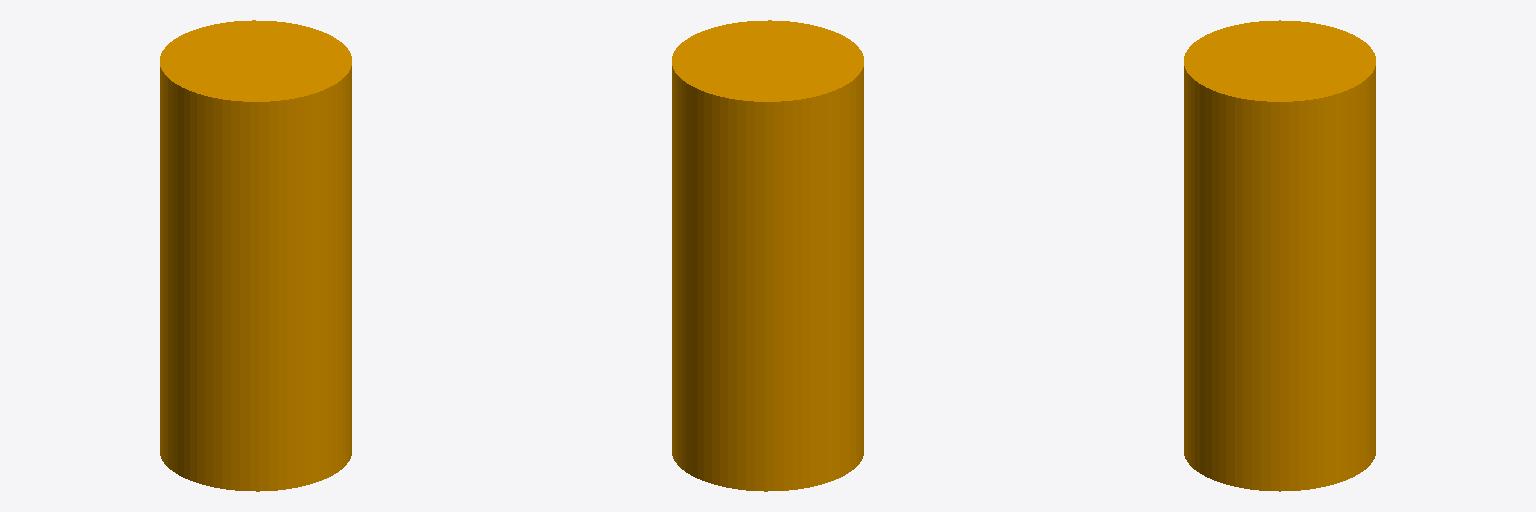
robot.urdf — tumbler:
<?xml version="1.0"?>
<!-- tumbler.urdf 의 6자유도 판.
     캡을 body 에 cap_spin(z회전) + cap_lift(z이동) + 여분 4개(cap_tx/ty 수평,
     cap_rx/ry 기울임) 사슬로 연결한다. 잠긴 동안 여분 4개는 screw_coupling 이
     강성 위치 드라이브로 0 에 고정하므로 기존 2자유도 판과 같은 거동이고,
     해제(180도) 순간 드라이브를 꺼서 캡이 완전 자유 강체처럼 움직인다
     (기울고, 미끄러지고, 계속 돈다). 2자유도 판은 해제 후에도 z 회전+상승만
     가능해서 손이 캡을 기울이거나 옆으로 빼낼 수 없었다.
     cap_spin 상한은 나사끝(180도)+2도 여유 (tumbler.urdf 의 주석 참조).
     해제 시 spin 한계 확장은 screw_coupling.release_bound() 가 담당한다. -->
<!-- make_cyl_tumbler.py 생성: cap r=50.2/h=30.0mm, body R=50.0/H=223.0mm, 64각 -->
<robot name="tumbler">
  <link name="body">
    <visual>
      <geometry><mesh filename="meshes/tumbler_cyl_col_body.obj"/></geometry>
    </visual>
    <collision>
      <geometry><mesh filename="meshes/tumbler_cyl_col_body.obj"/></geometry>
    </collision>
    <inertial>
      <mass value="0.3"/>
      <origin xyz="0.020946 0.000643 0.134835"/>
      <inertia ixx="0.00167630" iyy="0.00206606" izz="0.00082941" ixy="0" ixz="0" iyz="0"/>
    </inertial>
  </link>

  <link name="cap_spinner">
    <inertial>
      <mass value="1e-4"/>
      <inertia ixx="1e-8" iyy="1e-8" izz="1e-8" ixy="0" ixz="0" iyz="0"/>
    </inertial>
  </link>
  <joint name="cap_spin" type="revolute">
    <parent link="body"/>
    <child link="cap_spinner"/>
    <origin xyz="0 0 0.225000"/>
    <axis xyz="0 0 1"/>
    <limit lower="-0.020000" upper="3.176499" effort="50.0" velocity="20.0"/>
    <dynamics damping="0.001" friction="0.0"/>
  </joint>

  <link name="cap_lifter">
    <inertial>
      <mass value="1e-4"/>
      <inertia ixx="1e-8" iyy="1e-8" izz="1e-8" ixy="0" ixz="0" iyz="0"/>
    </inertial>
  </link>
  <joint name="cap_lift" type="prismatic">
    <parent link="cap_spinner"/>
    <child link="cap_lifter"/>
    <origin xyz="0 0 0"/>
    <axis xyz="0 0 1"/>
    <limit lower="0.0" upper="0.13" effort="100.0" velocity="5.0"/>
    <mimic joint="cap_spin" multiplier="3.18309886e-03" offset="0.0"/>
  </joint>

  <!-- 여분 4자유도. 잠긴 동안 screw_coupling 이 강성 드라이브로 0 고정. -->
  <link name="cap_fx">
    <inertial>
      <mass value="1e-4"/>
      <inertia ixx="1e-8" iyy="1e-8" izz="1e-8" ixy="0" ixz="0" iyz="0"/>
    </inertial>
  </link>
  <joint name="cap_tx" type="prismatic">
    <parent link="cap_lifter"/>
    <child link="cap_fx"/>
    <origin xyz="0 0 0"/>
    <axis xyz="1 0 0"/>
    <limit lower="-0.5" upper="0.5" effort="100.0" velocity="5.0"/>
  </joint>

  <link name="cap_fy">
    <inertial>
      <mass value="1e-4"/>
      <inertia ixx="1e-8" iyy="1e-8" izz="1e-8" ixy="0" ixz="0" iyz="0"/>
    </inertial>
  </link>
  <joint name="cap_ty" type="prismatic">
    <parent link="cap_fx"/>
    <child link="cap_fy"/>
    <origin xyz="0 0 0"/>
    <axis xyz="0 1 0"/>
    <limit lower="-0.5" upper="0.5" effort="100.0" velocity="5.0"/>
  </joint>

  <link name="cap_frx">
    <inertial>
      <mass value="1e-4"/>
      <inertia ixx="1e-8" iyy="1e-8" izz="1e-8" ixy="0" ixz="0" iyz="0"/>
    </inertial>
  </link>
  <joint name="cap_rx" type="revolute">
    <parent link="cap_fy"/>
    <child link="cap_frx"/>
    <origin xyz="0 0 0"/>
    <axis xyz="1 0 0"/>
    <limit lower="-3.1416" upper="3.1416" effort="50.0" velocity="20.0"/>
  </joint>

  <joint name="cap_ry" type="revolute">
    <parent link="cap_frx"/>
    <child link="cap"/>
    <origin xyz="0 0 0"/>
    <axis xyz="0 1 0"/>
    <limit lower="-3.1416" upper="3.1416" effort="50.0" velocity="20.0"/>
  </joint>

  <link name="cap">
    <visual>
      <geometry><mesh filename="meshes/tumbler_cyl_col_cap.obj"/></geometry>
    </visual>
    <collision>
      <geometry><mesh filename="meshes/tumbler_cyl_col_cap.obj"/></geometry>
    </collision>
    <inertial>
      <mass value="0.050"/>
      <origin xyz="0 0 0.015000"/>
      <inertia ixx="0.00003525" iyy="0.00003525" izz="0.00006300" ixy="0" ixz="0" iyz="0"/>
    </inertial>
  </link>

  <!-- 매끈한 원통이라 그대로는 미끄럽다. 나사산 대신 마찰로 그립을 만든다. -->
  <gazebo reference="cap"><mu1>2.0</mu1><mu2>2.0</mu2></gazebo>
  <gazebo reference="body"><mu1>2.0</mu1><mu2>2.0</mu2></gazebo>
</robot>

--- Render facts (derived) ---
The picture shows the robot from 3 angles, left to right: view 1: azimuth 30°, elevation 25°; view 2: azimuth 150°, elevation 25°; view 3: azimuth 270°, elevation 25°; orthographic projection.
Robot: tumbler — 7 links, 6 joints (3 revolute, 3 prismatic); root link body; default pose: every joint at zero.
Links seen in each view (by area): view 1: body; view 2: body; view 3: body.
Link boxes in pixels (bbox=[...]): body: bbox=[160, 20, 351, 491]; body: bbox=[672, 20, 863, 491]; body: bbox=[1184, 20, 1375, 491].
Bounding box of the posed robot: 0.1 × 0.1 × 0.223 m (x, y, z).
Meshes: 2 distinct files referenced, 1 mesh visuals loaded (1 OBJ); not drawn: 1 (reference not matched to a file when rendering).
